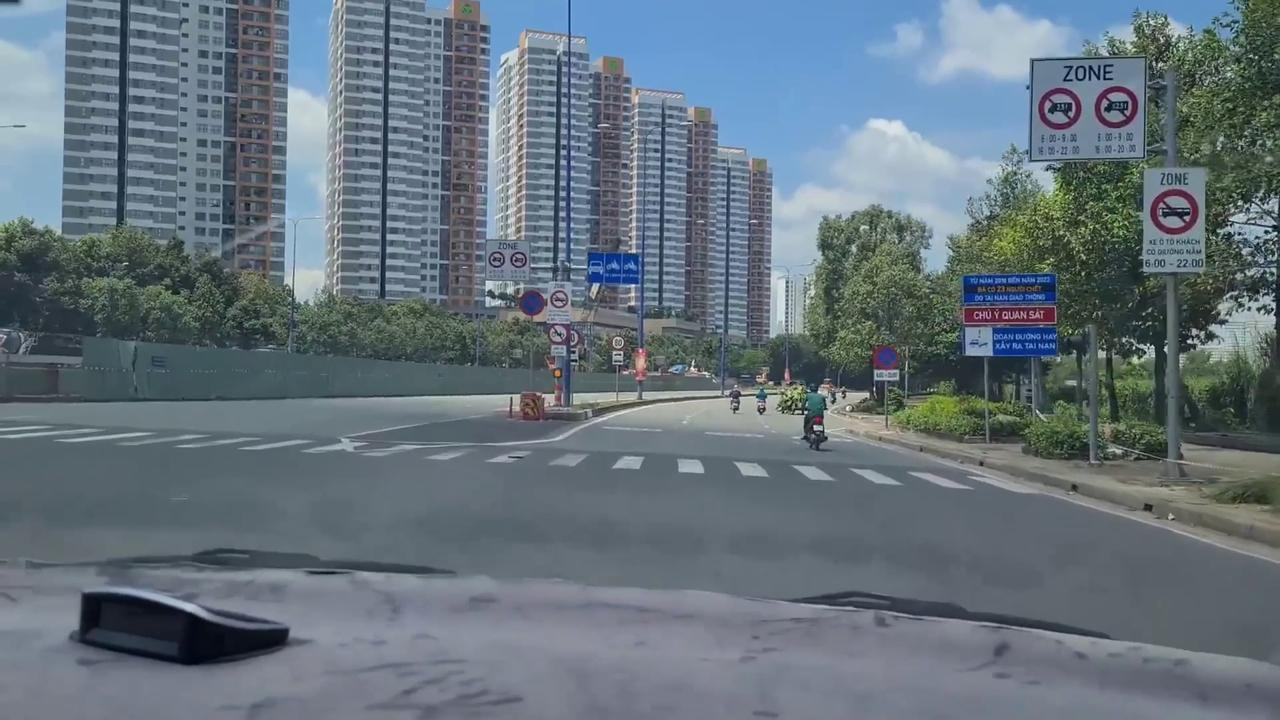Biển phụ: (873, 369, 900, 382), (612, 351, 624, 365)
Cấm cac phương tiện hoạt động trong khung giờ cố định: (1028, 57, 1147, 161), (1141, 168, 1207, 273), (484, 238, 530, 281), (546, 280, 572, 324)
Cấm dừng - Cấm đỗ: (518, 290, 545, 318), (872, 345, 899, 369)
Cấm xe máy: (548, 324, 568, 344)
Giới hạn tốc độ 80Km/h: (612, 335, 626, 350)
Khác: (961, 273, 1059, 357)
Làn đường cho từng xe: (585, 253, 640, 285)
